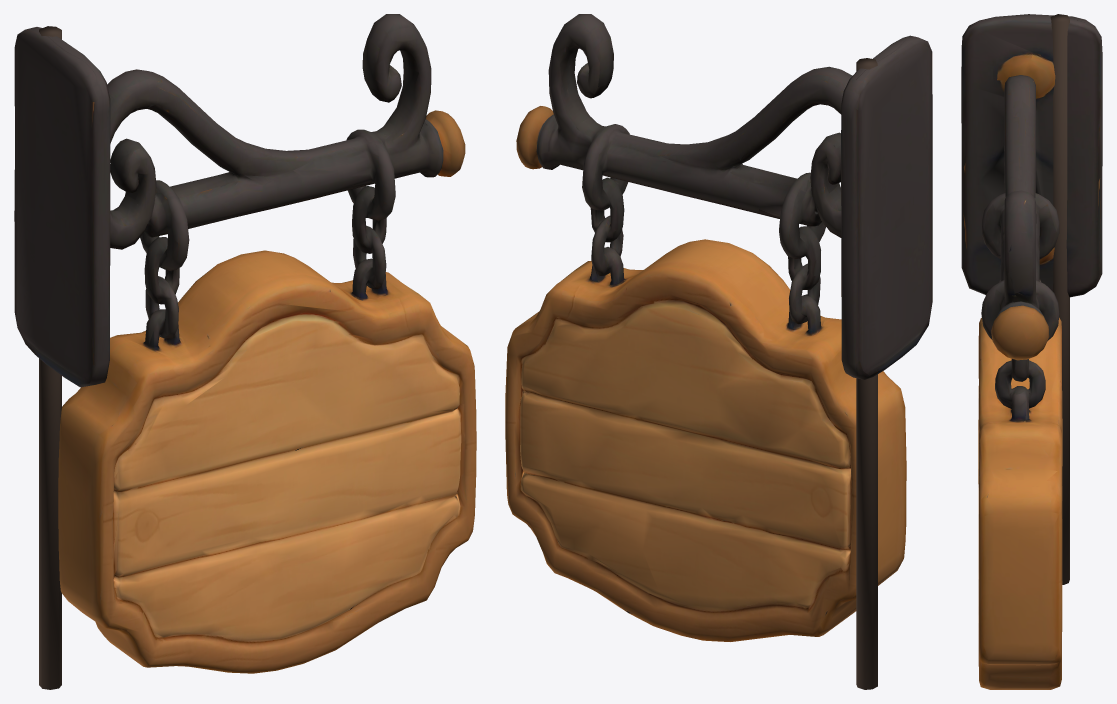
3 views of the same model, side by side, from view 1: azimuth 30°, elevation 25°; view 2: azimuth 150°, elevation 25°; view 3: azimuth 270°, elevation 25° (orthographic). The views are drawn at different scales.
Parts seen in each view (by area): view 1: plate-iron; view 2: plate-iron; view 3: plate-iron.
Part boxes in pixels (x1,y1,x2,y2): plate-iron: [14, 14, 476, 689]; plate-iron: [505, 14, 932, 689]; plate-iron: [961, 14, 1102, 689].
Bounding box in the file's own units: 1.4 × 2.2 × 0.5004.
Materials: 2 (1 with a texture image).
